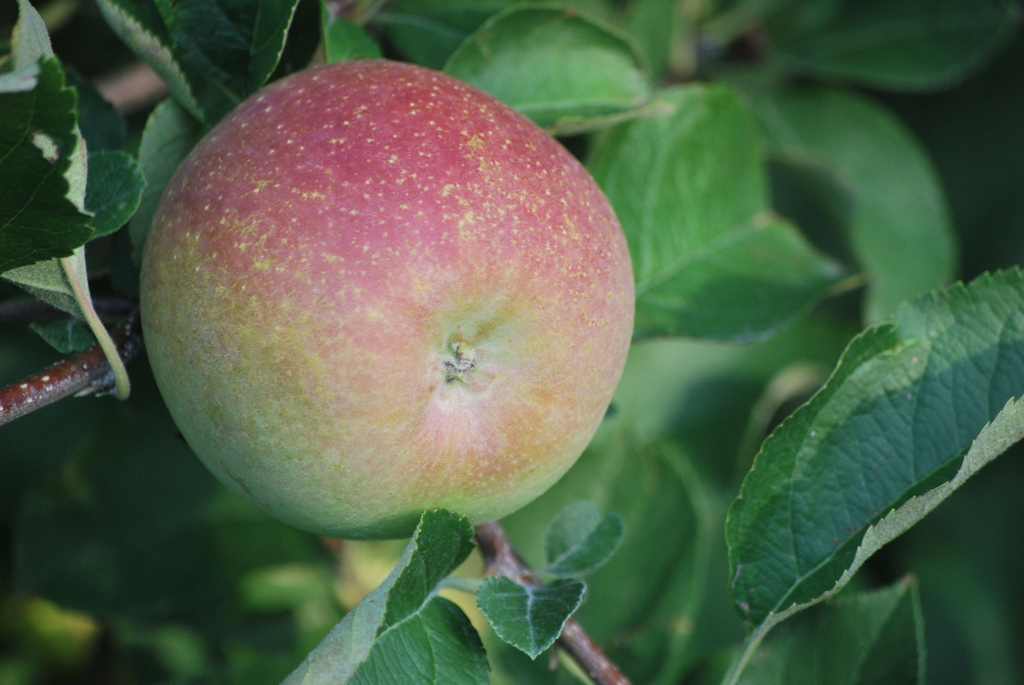Apple: (140, 52, 631, 555)
